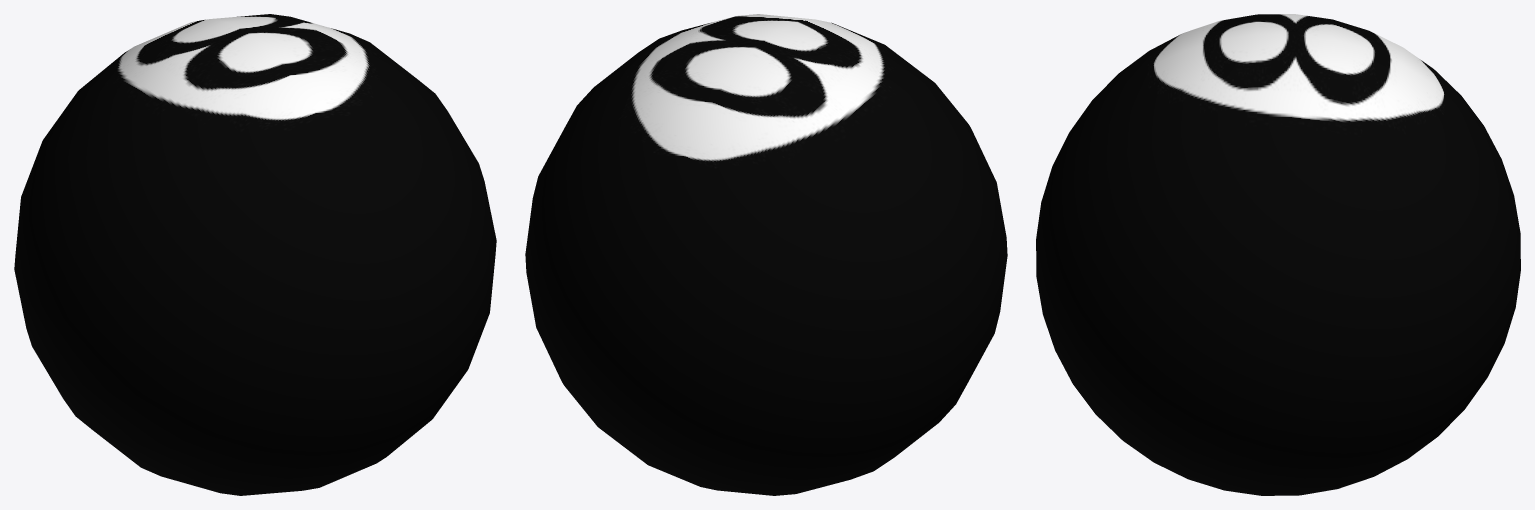
Rendered from Ball8.fbx.
3 renders of one model, left to right at view 1: azimuth 30°, elevation 25°; view 2: azimuth 150°, elevation 25°; view 3: azimuth 270°, elevation 25°, orthographic.
Visible parts, largest first — view 1: pSphere1; view 2: pSphere1; view 3: pSphere1.
Part boxes in pixels (bbox=[...]): pSphere1: bbox=[14, 14, 496, 495]; pSphere1: bbox=[525, 14, 1007, 495]; pSphere1: bbox=[1036, 14, 1520, 495].
Bounding box in the file's own units: 2 × 1.99 × 2.
